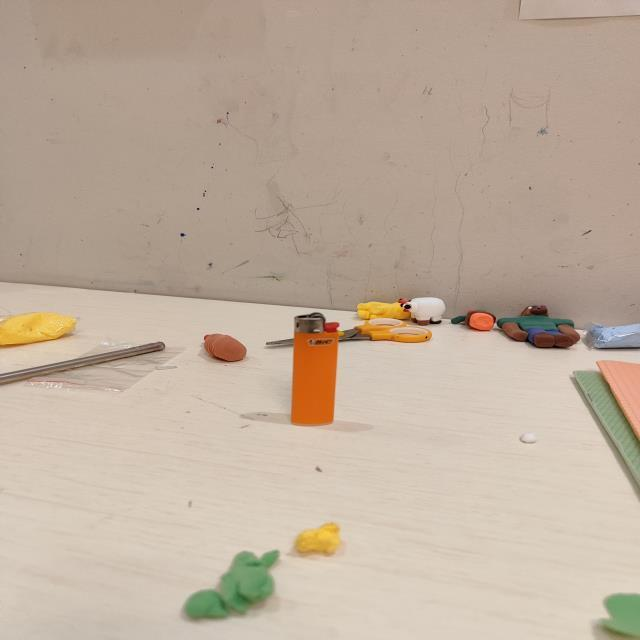lighter: (290, 312, 336, 425)
